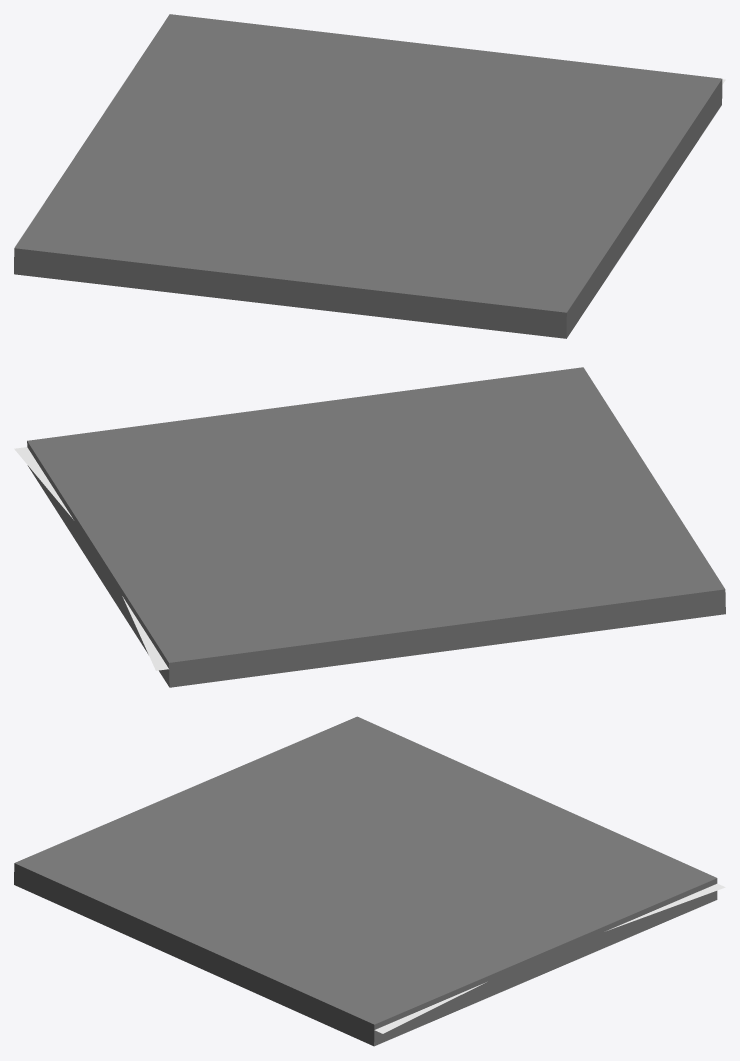
File: MS_Deck_Dynamic.fbx
3 views of the same model, one above another, from view 1: azimuth 30°, elevation 25°; view 2: azimuth 150°, elevation 25°; view 3: azimuth 270°, elevation 25° (orthographic). The views are drawn at different scales.
Parts seen in each view (by area): view 1: MS_Deck_Dynamic; view 2: MS_Deck_Dynamic, watermask; view 3: MS_Deck_Dynamic, watermask.
Boxes of the visible parts, left/top/right/bottom form: MS_Deck_Dynamic: left=14, top=14, right=722, bottom=338; MS_Deck_Dynamic: left=27, top=367, right=725, bottom=687; watermask: left=14, top=447, right=168, bottom=670; MS_Deck_Dynamic: left=14, top=716, right=717, bottom=1046; watermask: left=374, top=883, right=725, bottom=1033.
Bounding box in the file's own units: 294 × 15.01 × 294.
2 materials, 1 textured.
